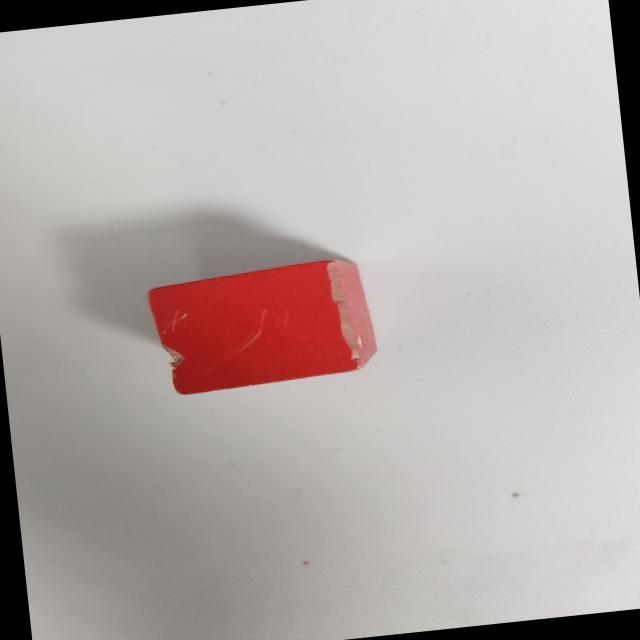broken: (144, 255, 380, 397)
